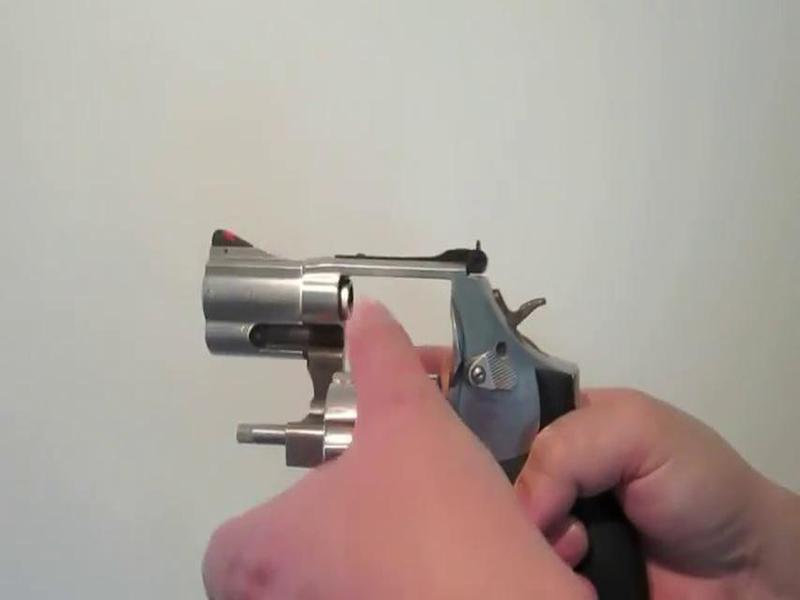Revolver: (167, 210, 667, 600)
